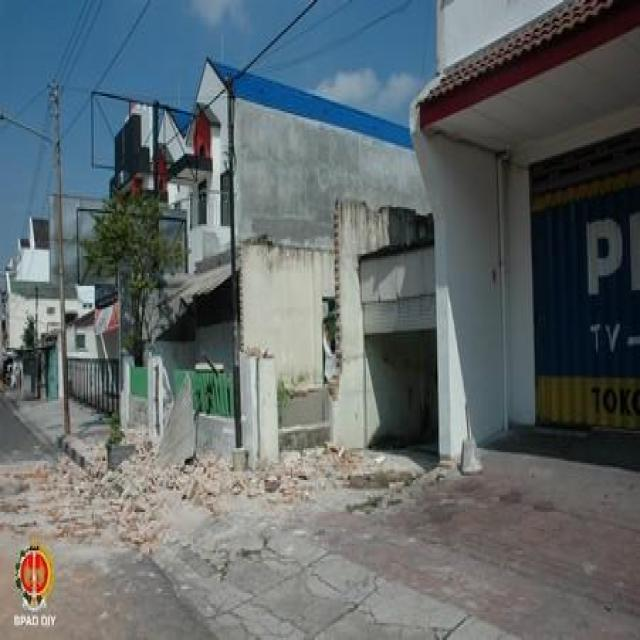damage: (0, 403, 230, 572), (312, 160, 385, 461), (230, 422, 404, 517)
